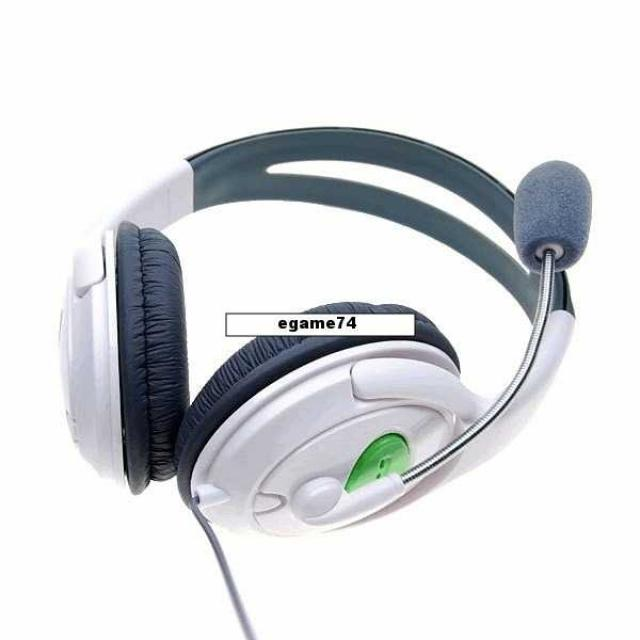microphone: (513, 160, 594, 276)
